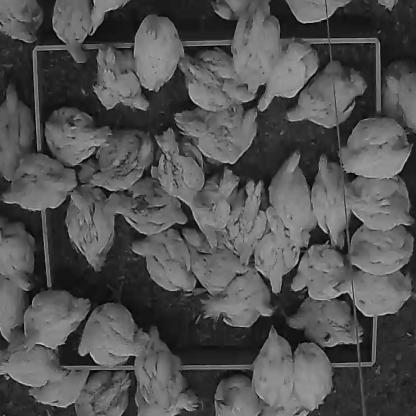chicken: (131, 321, 196, 415), (228, 3, 284, 104), (172, 99, 259, 164), (281, 63, 366, 129), (1, 145, 77, 215), (265, 148, 316, 250), (120, 228, 201, 292), (176, 46, 252, 112), (112, 176, 195, 236), (336, 117, 415, 180), (150, 127, 206, 214), (77, 303, 152, 367), (200, 266, 276, 328), (186, 162, 237, 254), (255, 40, 319, 113), (336, 173, 415, 232), (83, 127, 151, 195), (249, 324, 299, 415), (14, 291, 91, 350), (64, 184, 117, 269), (307, 152, 354, 247), (44, 104, 111, 170), (217, 179, 266, 269), (286, 334, 340, 415), (92, 42, 154, 112), (339, 220, 415, 277), (331, 267, 415, 318), (287, 294, 365, 348), (254, 205, 300, 295), (1, 335, 73, 391), (133, 13, 182, 94), (288, 244, 353, 301), (1, 77, 34, 183), (183, 240, 248, 293), (72, 361, 134, 415), (50, 1, 95, 66), (1, 215, 35, 293), (24, 369, 91, 408), (382, 57, 415, 136), (1, 271, 35, 347), (208, 369, 262, 415), (0, 1, 46, 43)
